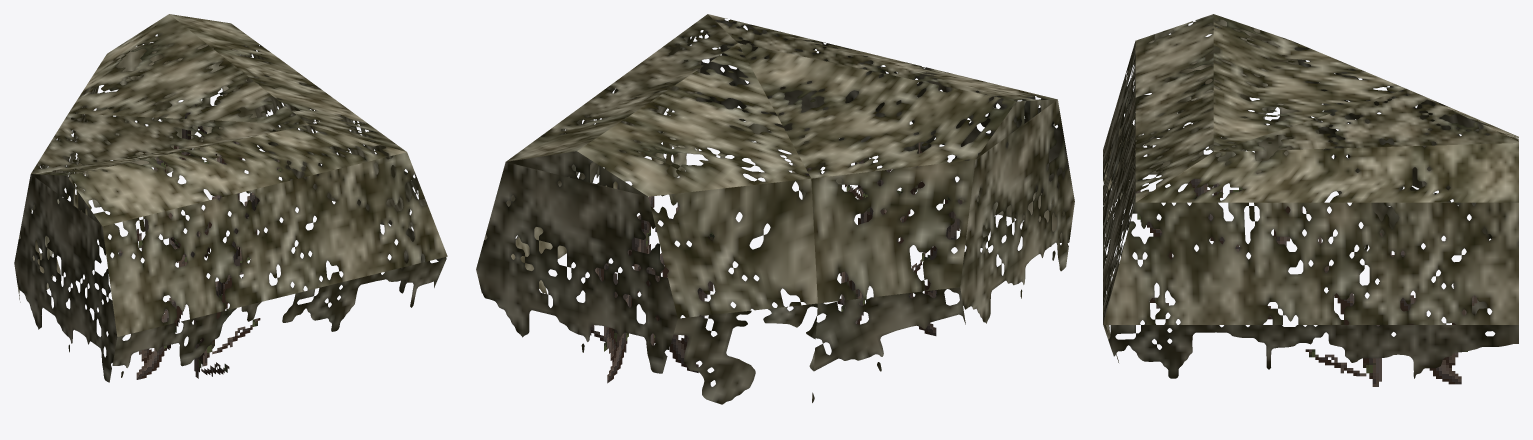
Rendered from bush_square_corner_filled_roots_dead.fbx.
The picture shows the model from 3 angles, left to right: view 1: azimuth 30°, elevation 25°; view 2: azimuth 150°, elevation 25°; view 3: azimuth 270°, elevation 25°; orthographic projection. The views are drawn at different scales.
Visible parts, largest first — view 1: bush_square_corner_filled_roots_dead; view 2: bush_square_corner_filled_roots_dead; view 3: bush_square_corner_filled_roots_dead.
Boxes of the visible parts, left/top/right/bottom form: bush_square_corner_filled_roots_dead: left=14, top=14, right=447, bottom=382; bush_square_corner_filled_roots_dead: left=476, top=14, right=1074, bottom=404; bush_square_corner_filled_roots_dead: left=1103, top=14, right=1518, bottom=386.
Bounding box in the file's own units: 136 × 87.65 × 135.
2 materials, 2 textured.
